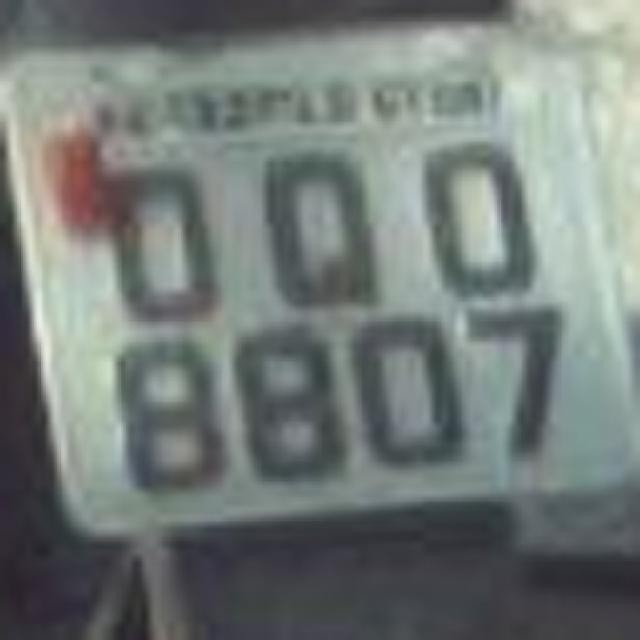0: (412, 136, 560, 324), (335, 308, 480, 492)
7: (448, 304, 584, 491)
8: (216, 312, 352, 496), (91, 312, 224, 500)
O: (95, 140, 240, 325)
